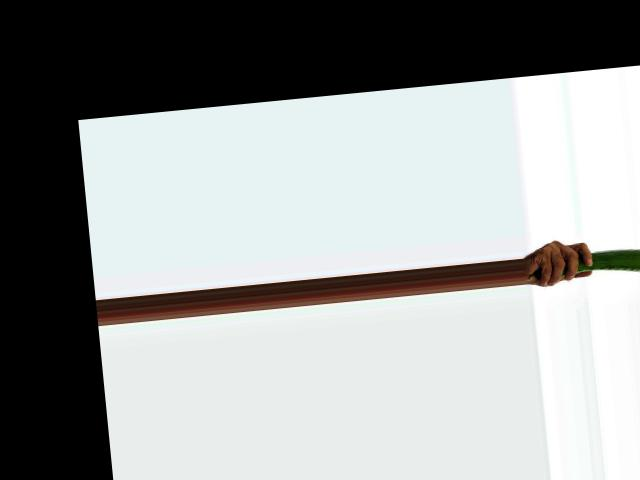cucumber: (527, 244, 640, 285)
